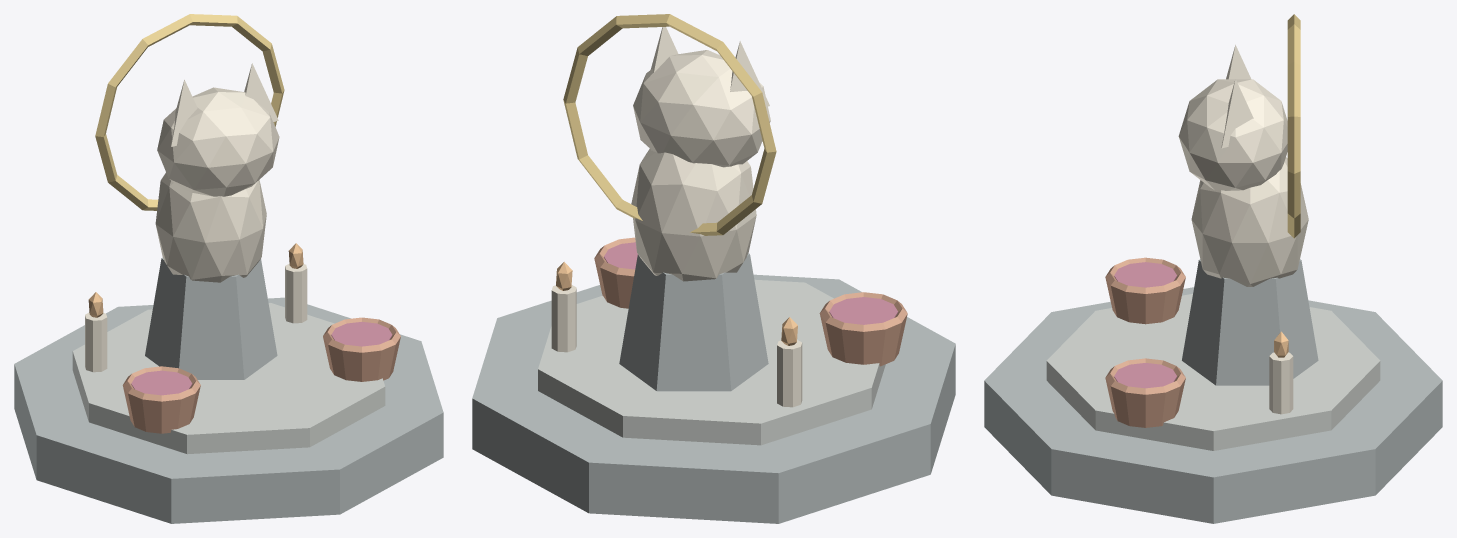
File: shrine.fbx
3 renders of one model, left to right at view 1: azimuth 30°, elevation 25°; view 2: azimuth 150°, elevation 25°; view 3: azimuth 270°, elevation 25°, orthographic. The views are drawn at different scales.
Parts seen in each view (by area): view 1: shrine_mesh; view 2: shrine_mesh; view 3: shrine_mesh.
Boxes of the visible parts, x1=… form: shrine_mesh: x1=14, y1=14, x2=443, y2=523; shrine_mesh: x1=472, y1=14, x2=955, y2=523; shrine_mesh: x1=984, y1=14, x2=1442, y2=523.
Size of the model in its own units: 2.5 by 2.43 by 2.5.
